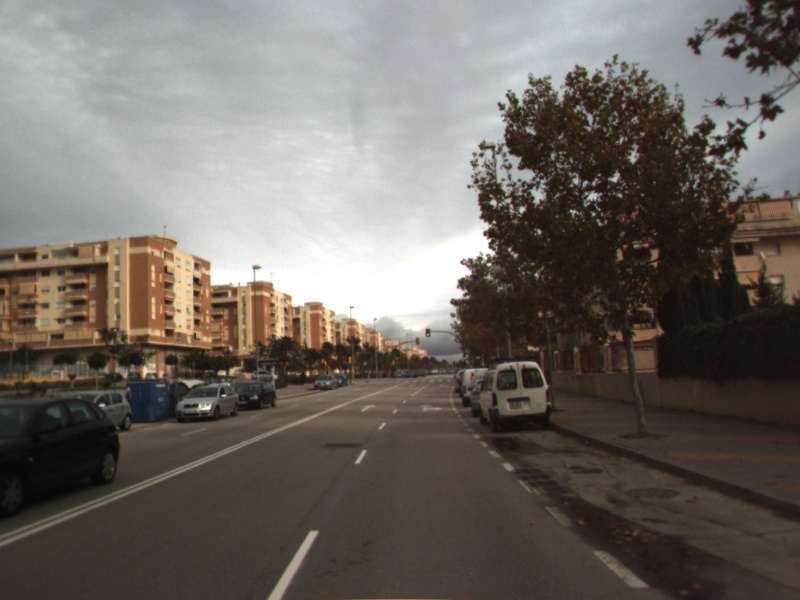STRAIGHT: (358, 402, 379, 414)
STRAIGHT_RIGHT: (417, 402, 445, 414)
